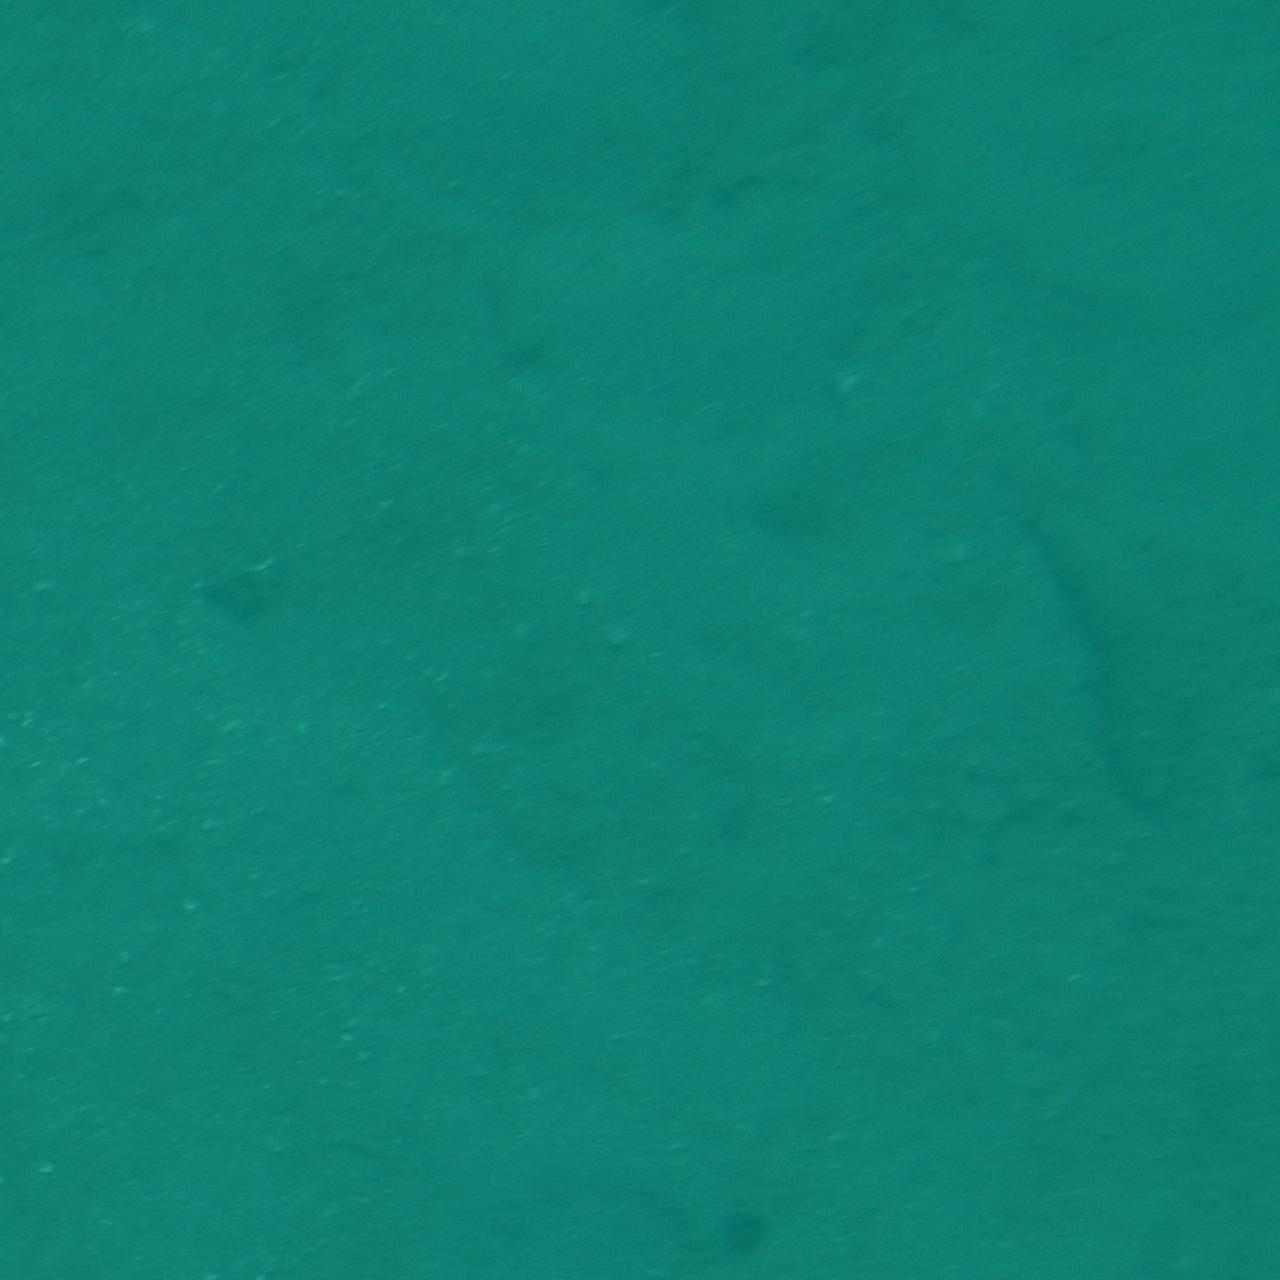Holothuria tubulosa: (1016, 469, 1232, 811)
